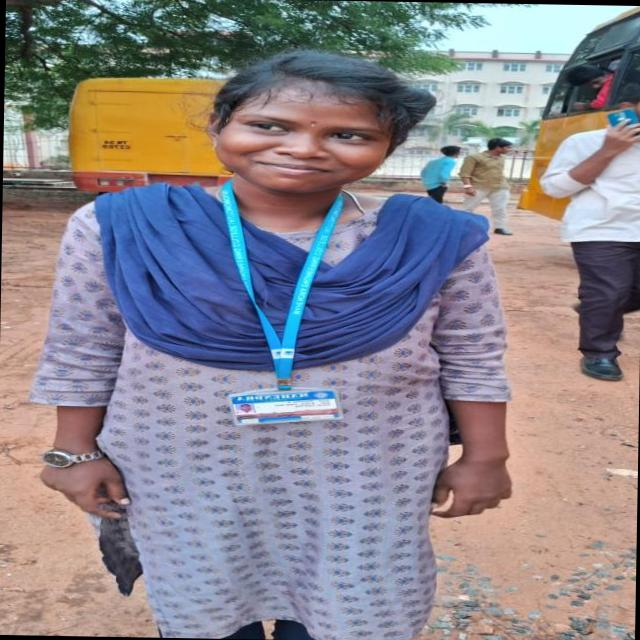id_card: (222, 180, 342, 434)
